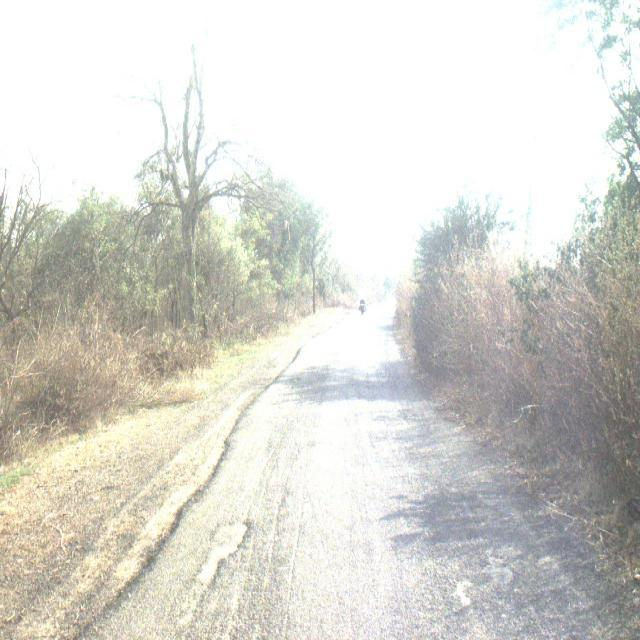pothole: (436, 546, 524, 640), (206, 496, 256, 636)
